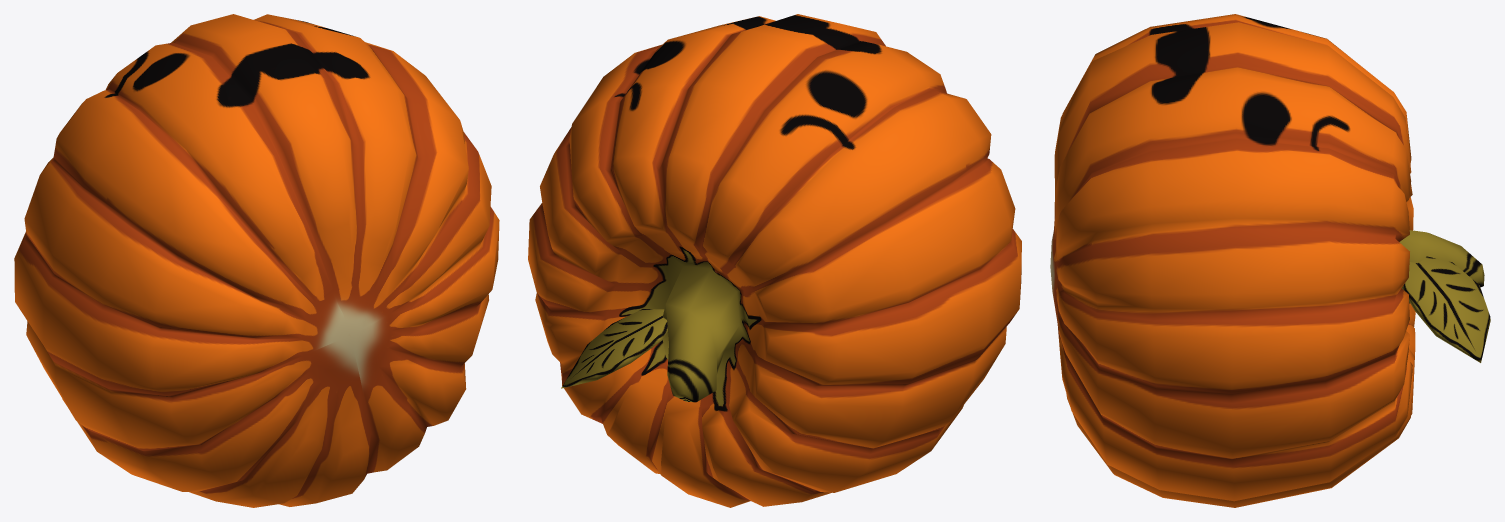
The model's file is pumpkinBoy_head 1.fbx.
3 renders of one model, left to right at view 1: azimuth 30°, elevation 25°; view 2: azimuth 150°, elevation 25°; view 3: azimuth 270°, elevation 25°, orthographic.
Parts seen in each view (by area): view 1: Head; view 2: Head; view 3: Head.
Part boxes in pixels (bbox=[...]): Head: bbox=[14, 14, 499, 507]; Head: bbox=[528, 14, 1021, 507]; Head: bbox=[1050, 14, 1490, 507].
Bounding box in the file's own units: 248 × 220 × 250.
